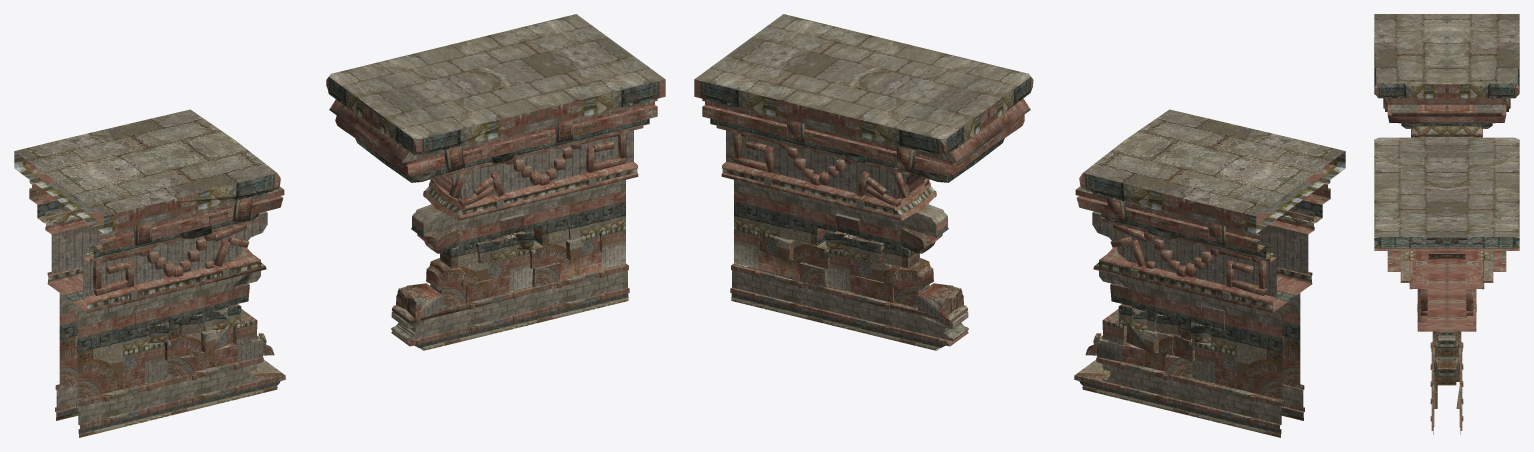
File: AncientTower.fbx
3 renders of one model, left to right at view 1: azimuth 30°, elevation 25°; view 2: azimuth 150°, elevation 25°; view 3: azimuth 270°, elevation 25°, orthographic. The views are drawn at different scales.
Visible parts, largest first — view 1: LV_AncientTower_Dungeon_MemoryWall02_SM_KWY; view 2: LV_AncientTower_Dungeon_MemoryWall02_SM_KWY; view 3: LV_AncientTower_Dungeon_MemoryWall02_SM_KWY.
Part boxes in pixels (left/top/right/bottom): LV_AncientTower_Dungeon_MemoryWall02_SM_KWY: left=14, top=14, right=665, bottom=437; LV_AncientTower_Dungeon_MemoryWall02_SM_KWY: left=694, top=14, right=1345, bottom=437; LV_AncientTower_Dungeon_MemoryWall02_SM_KWY: left=1374, top=14, right=1519, bottom=434.
Size of the model in its own units: 7.41 by 3.12 by 2.04.
4 materials, 4 textured.
